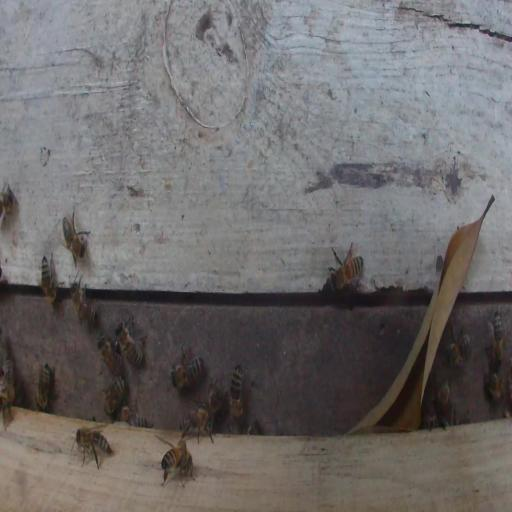Insects: (327, 242, 364, 293), (73, 423, 112, 470), (68, 275, 100, 329), (61, 210, 90, 265), (160, 441, 193, 488), (170, 347, 205, 389), (115, 320, 145, 367), (180, 405, 214, 444), (443, 329, 471, 365), (40, 253, 58, 306), (98, 336, 122, 375), (1, 358, 15, 424), (103, 375, 126, 415), (489, 309, 504, 368), (0, 183, 18, 227), (229, 363, 243, 419), (36, 362, 51, 412), (119, 405, 149, 427), (485, 372, 505, 402), (437, 379, 451, 419), (208, 378, 222, 417), (423, 413, 450, 430), (246, 418, 261, 435)
